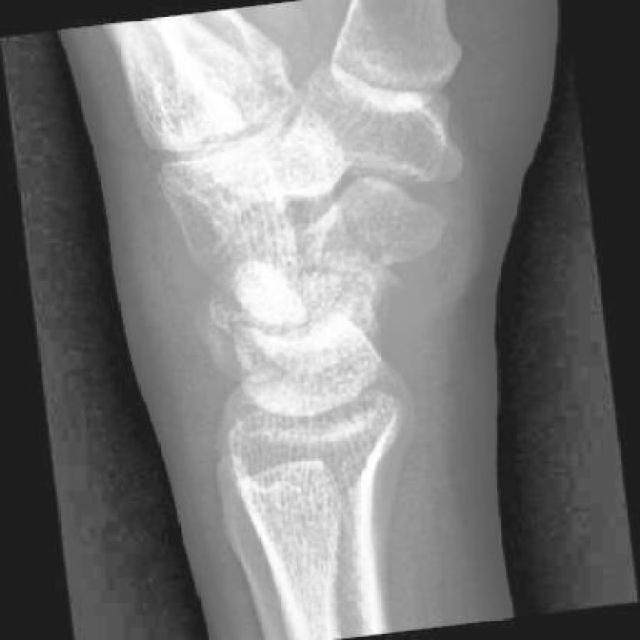Fracture: (280, 208, 413, 313)
